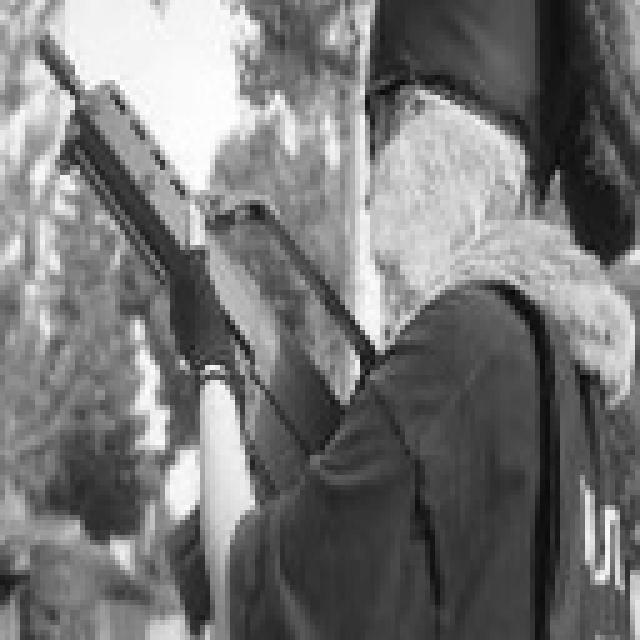Rifle: (0, 15, 405, 580)
